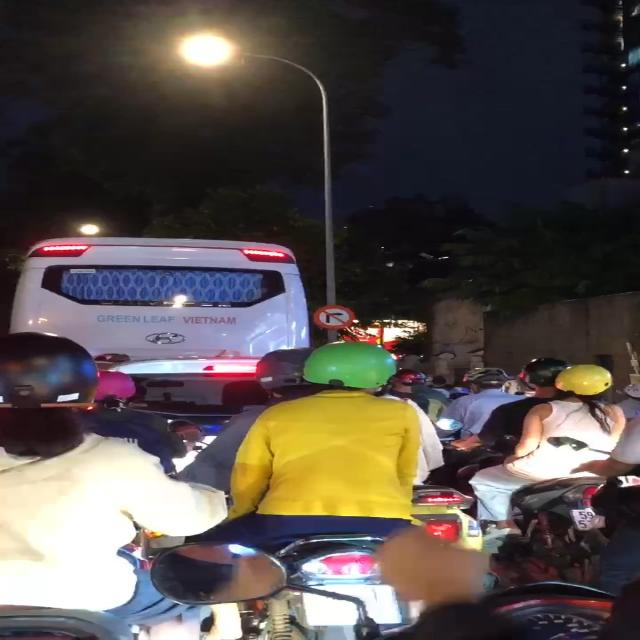Bien bao cam re phai: (305, 302, 359, 331)
